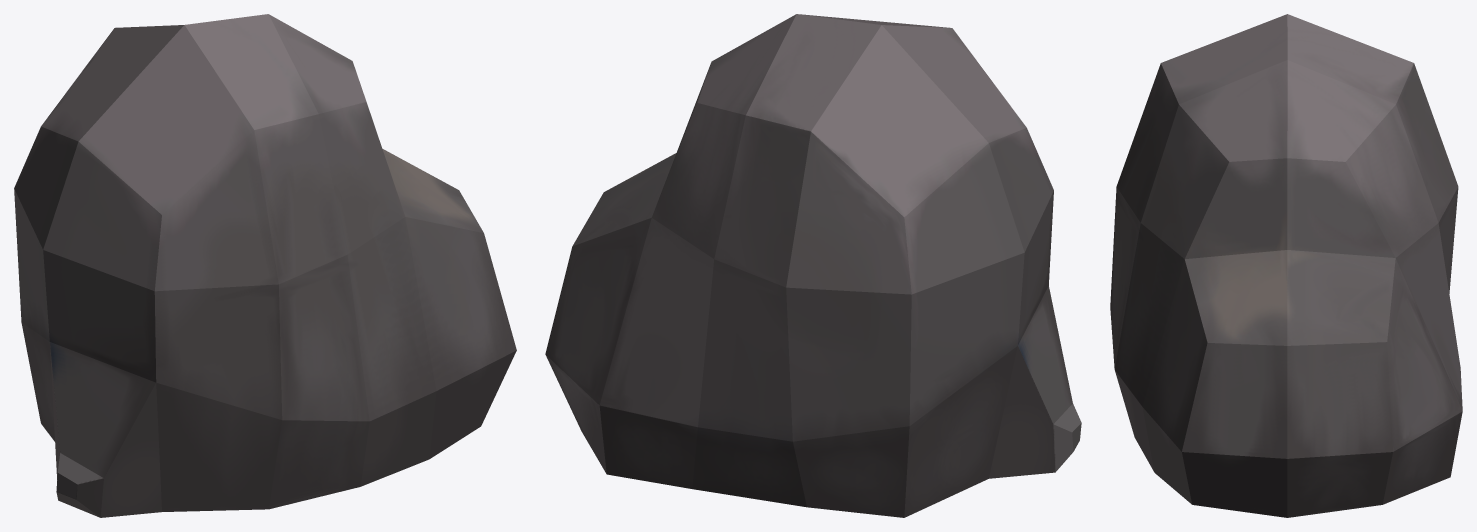
Rendered from rock_1.fbx.
3 views of the same model, side by side, from view 1: azimuth 30°, elevation 25°; view 2: azimuth 150°, elevation 25°; view 3: azimuth 270°, elevation 25° (orthographic). The views are drawn at different scales.
Visible parts, largest first — view 1: rock; view 2: rock; view 3: rock.
Boxes of the visible parts, x1,y1,x2,y2 form: rock: (14, 14, 516, 517); rock: (545, 14, 1081, 517); rock: (1110, 14, 1462, 517).
Bounding box in the file's own units: 221 × 193 × 161.
Materials: 1 (1 with a texture image).
